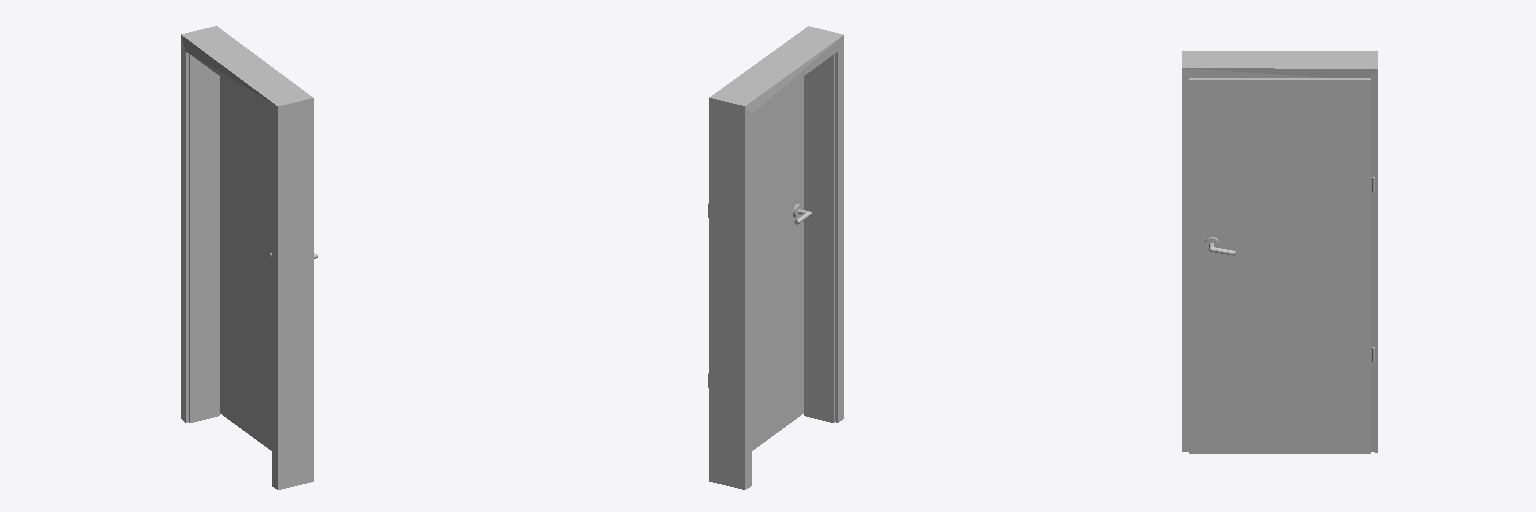
Rendered from door93.obj.
3 views of the same model, side by side, from view 1: azimuth 30°, elevation 25°; view 2: azimuth 150°, elevation 25°; view 3: azimuth 270°, elevation 25° (orthographic).
Parts seen in each view (by area): view 1: Cylinder.005, Cylinder.001; view 2: Cylinder.005, Cylinder.001; view 3: Cylinder.001, Cylinder.005.
Boxes of the visible parts, <box> form: Cylinder.005: <box>181,26,313,489</box>; Cylinder.001: <box>220,77,271,450</box>; Cylinder.005: <box>708,26,843,489</box>; Cylinder.001: <box>708,77,803,450</box>; Cylinder.001: <box>1189,78,1374,453</box>; Cylinder.005: <box>1182,51,1377,452</box>.
Bounding box in the file's own units: 0.3039 × 2.05 × 0.95.